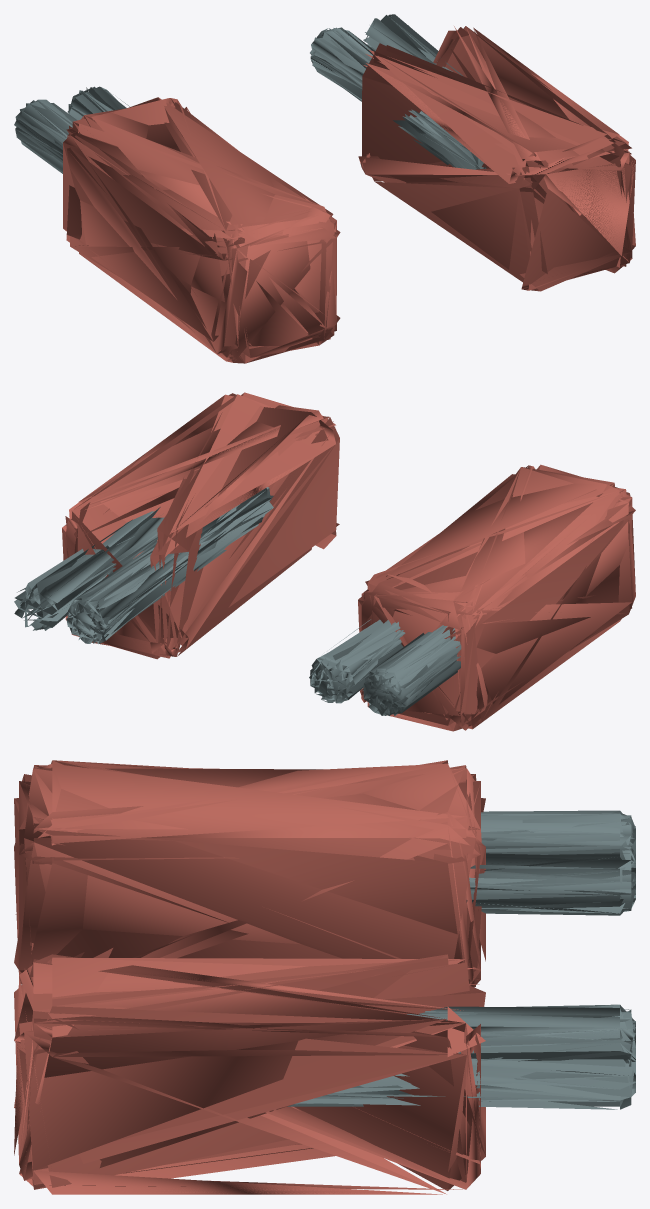
Rendered from kit_storm.glb.
3 views of the same model, one above another, from view 1: azimuth 30°, elevation 25°; view 2: azimuth 150°, elevation 25°; view 3: azimuth 270°, elevation 25° (orthographic). The views are drawn at different scales.
Visible parts, largest first — view 1: MissileCradle, MissileCradle.001, MissileTube.002, MissileTube, MissileTube.003, MissileTube.001; view 2: MissileCradle, MissileCradle.001, MissileTube.002, MissileTube.003, MissileTube, MissileTube.001; view 3: MissileCradle.001, MissileCradle, MissileTube.003, MissileTube.001, MissileTube.002, MissileTube.
Part boxes in pixels (x1=…): MissileCradle: x1=63, y1=97, x2=340, y2=363; MissileCradle.001: x1=358, y1=26, x2=635, y2=291; MissileTube.002: x1=310, y1=27, x2=486, y2=169; MissileTube: x1=14, y1=99, x2=77, y2=173; MissileTube.003: x1=363, y1=14, x2=463, y2=76; MissileTube.001: x1=67, y1=86, x2=129, y2=120; MissileCradle: x1=358, y1=464, x2=635, y2=731; MissileCradle.001: x1=62, y1=392, x2=339, y2=659; MissileTube.002: x1=66, y1=487, x2=273, y2=643; MissileTube.003: x1=14, y1=507, x2=164, y2=630; MissileTube: x1=362, y1=625, x2=461, y2=715; MissileTube.001: x1=309, y1=619, x2=405, y2=703; MissileCradle.001: x1=14, y1=954, x2=485, y2=1194; MissileCradle: x1=14, y1=760, x2=485, y2=987; MissileTube.003: x1=287, y1=1039, x2=635, y2=1109; MissileTube.001: x1=466, y1=845, x2=635, y2=915; MissileTube.002: x1=407, y1=1004, x2=635, y2=1055; MissileTube: x1=481, y1=810, x2=635, y2=860.
Bounding box in the file's own units: 1.02 × 0.32 × 0.975.
